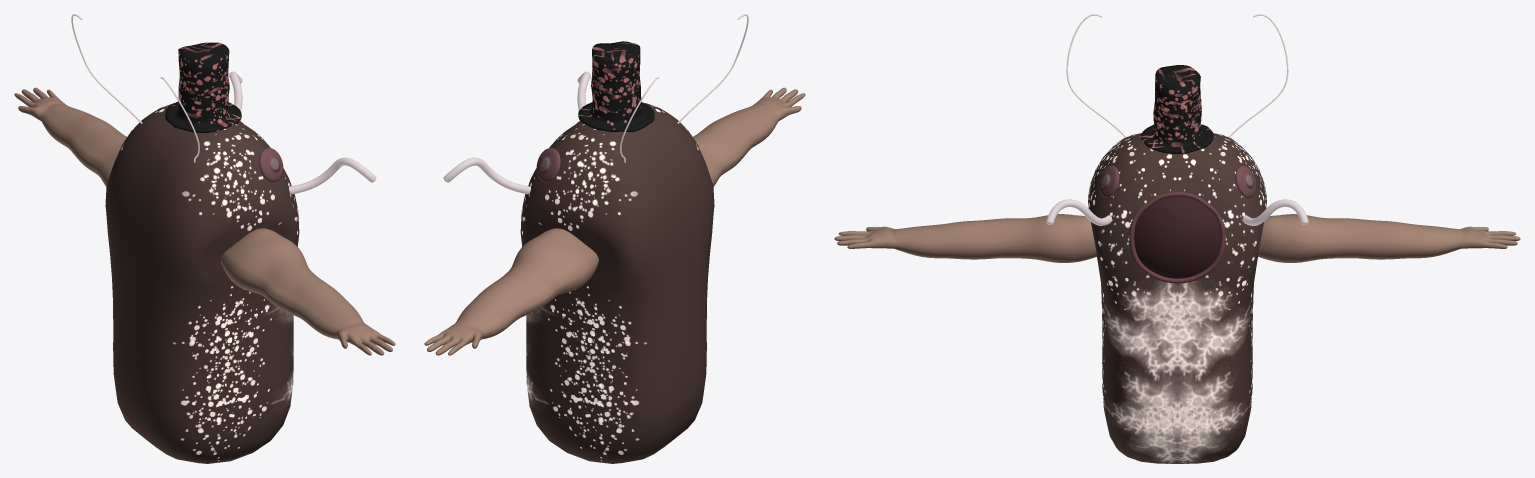
File: Mussel Mac.fbx
3 views of the same model, side by side, from view 1: azimuth 30°, elevation 25°; view 2: azimuth 150°, elevation 25°; view 3: azimuth 270°, elevation 25° (orthographic). The views are drawn at different scales.
Visible parts, largest first — view 1: Cube, Cylinder.001, BezierCurve, Sphere, BezierCurve.001; view 2: Cube, Cylinder.001, BezierCurve, Sphere, BezierCurve.001; view 3: Cube, Sphere.001, Cylinder.001, BezierCurve, Sphere, BezierCurve.001.
Boxes of the visible parts, x1,y1,x2,y2 form: Cube: (14, 87, 395, 463); Cylinder.001: (165, 42, 241, 132); BezierCurve: (229, 71, 376, 194); Sphere: (259, 148, 283, 182); BezierCurve.001: (71, 14, 199, 162); Cube: (424, 87, 805, 463); Cylinder.001: (578, 41, 654, 131); BezierCurve: (443, 71, 590, 194); Sphere: (536, 148, 560, 182); BezierCurve.001: (620, 14, 748, 162); Cube: (834, 133, 1520, 463); Sphere.001: (1134, 196, 1220, 278); Cylinder.001: (1141, 65, 1213, 153); BezierCurve: (1046, 199, 1308, 225); Sphere: (1098, 165, 1256, 197); BezierCurve.001: (1066, 14, 1288, 137).
Bounding box in the file's own units: 268 × 569 × 883.
8 materials, 8 textured.
